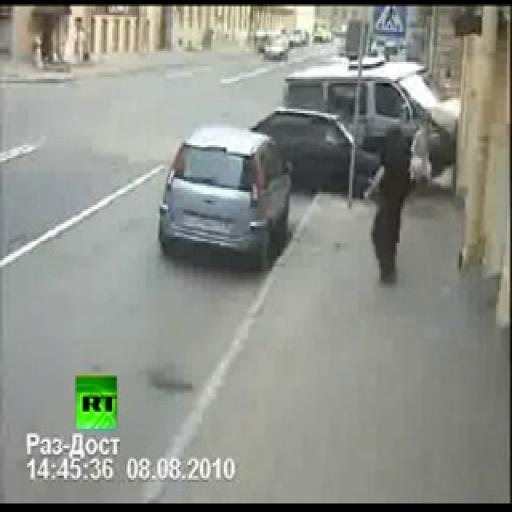Car: (157, 122, 292, 270), (284, 72, 448, 180), (266, 113, 374, 196), (264, 34, 289, 60), (255, 30, 271, 53), (288, 28, 308, 46)
Major Accident: (267, 65, 457, 196)
